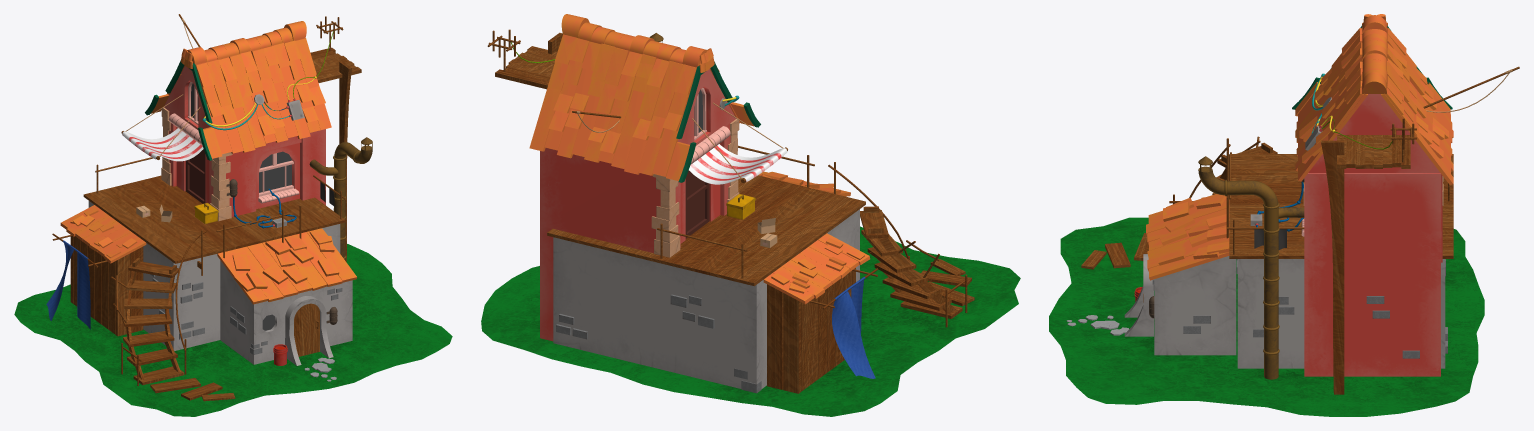
3 renders of one model, left to right at view 1: azimuth 30°, elevation 25°; view 2: azimuth 150°, elevation 25°; view 3: azimuth 270°, elevation 25°, orthographic. The views are drawn at different scales.
Visible parts, largest first — view 1: ESTRUCTURA_Material #16_0, MADERAS_Material #17_0, TEJAS_Material #18_0, DETALLES, CABLEADO; view 2: ESTRUCTURA_Material #16_0, MADERAS_Material #17_0, TEJAS_Material #18_0, DETALLES; view 3: ESTRUCTURA_Material #16_0, TEJAS_Material #18_0, MADERAS_Material #17_0, DETALLES, CABLEADO.
Boxes of the visible parts, x1,y1,x2,y2 form: ESTRUCTURA_Material #16_0: (14, 66, 452, 416); MADERAS_Material #17_0: (52, 14, 361, 401); TEJAS_Material #18_0: (60, 21, 357, 304); DETALLES: (46, 18, 372, 381); CABLEADO: (202, 31, 337, 324); ESTRUCTURA_Material #16_0: (481, 69, 1020, 416); MADERAS_Material #17_0: (487, 29, 974, 393); TEJAS_Material #18_0: (529, 14, 870, 304); DETALLES: (556, 33, 875, 393); ESTRUCTURA_Material #16_0: (1049, 94, 1484, 416); TEJAS_Material #18_0: (1146, 14, 1453, 280); MADERAS_Material #17_0: (1081, 66, 1519, 394); DETALLES: (1066, 26, 1512, 379); CABLEADO: (1149, 73, 1392, 318).
Bounding box in the file's own units: 443 × 316 × 442.
5 materials, 5 textured.
